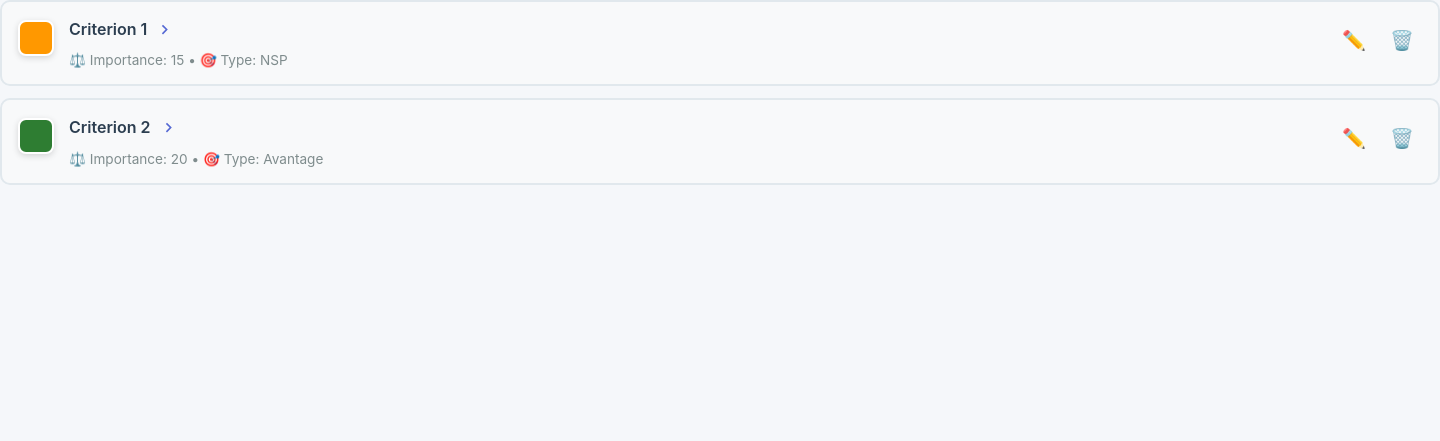
Test: CritereList › should toggle criterion accordion on click
The width and height of the screenshot is (1440, 441).
Click the button "Criterion 1" at (36, 38), box [18,19,288,68]
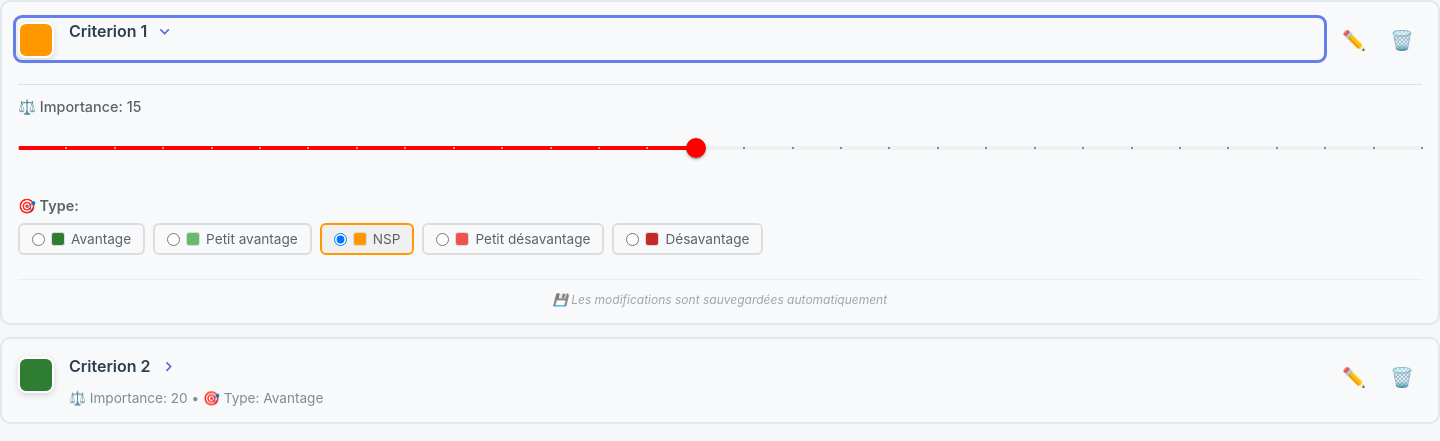
Expected: the button "Criterion 1" is expanded, [18,21,174,58]
